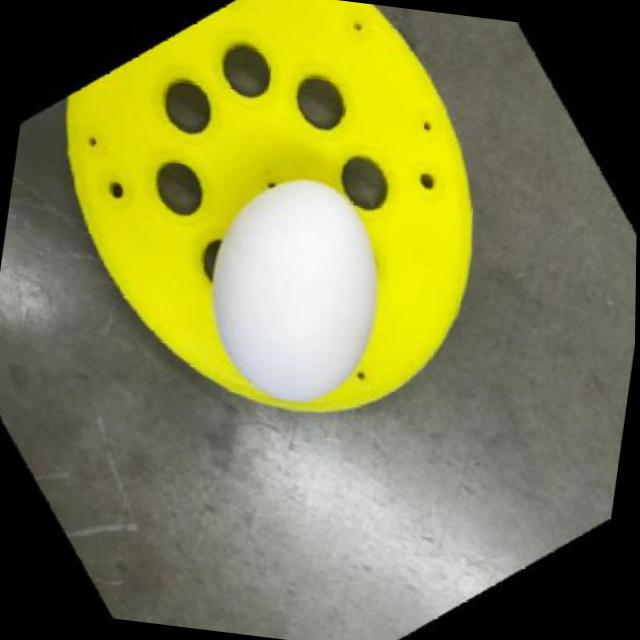egg: (194, 160, 394, 418)
